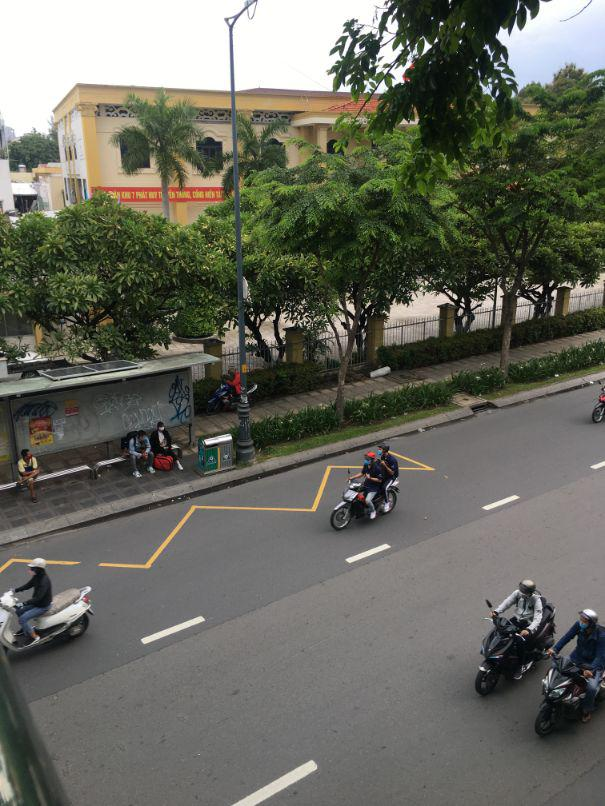motorbike: (475, 608, 555, 694), (536, 653, 605, 738), (333, 464, 402, 530)
